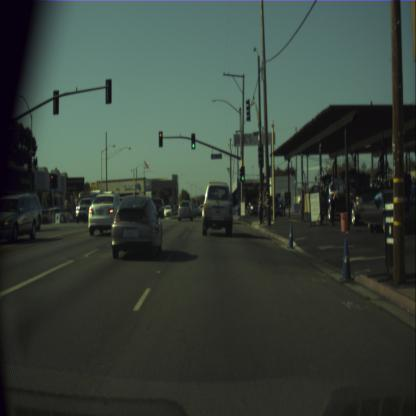Green: (191, 133, 195, 149), (241, 166, 244, 182)
Red: (158, 131, 162, 147), (50, 174, 54, 188)
